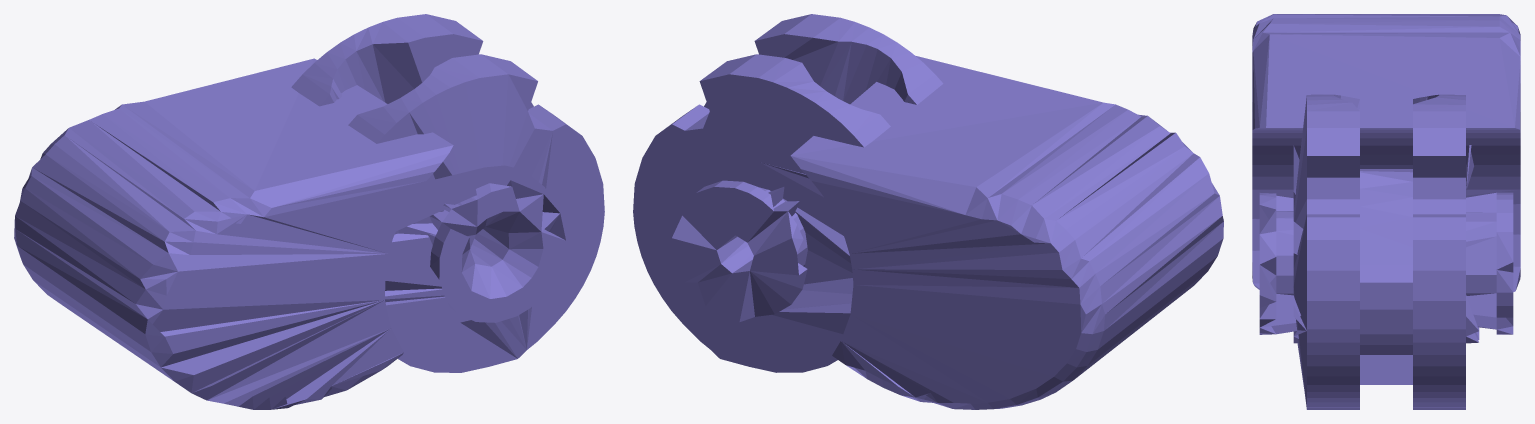
The model's file is H2R3_thumb_knuckle2.dae.
The picture shows the model from 3 angles, left to right: view 1: azimuth 30°, elevation 25°; view 2: azimuth 150°, elevation 25°; view 3: azimuth 270°, elevation 25°; orthographic projection. The views are drawn at different scales.
Parts seen in each view (by area): view 1: H2R3_thumb_knuckle2; view 2: H2R3_thumb_knuckle2; view 3: H2R3_thumb_knuckle2.
Part boxes in pixels (x1,y1,x2,y2): H2R3_thumb_knuckle2: [14, 14, 604, 409]; H2R3_thumb_knuckle2: [633, 14, 1223, 409]; H2R3_thumb_knuckle2: [1252, 14, 1520, 409].
Bounding box in the file's own units: 0.0327 × 0.0161 × 0.0186.
